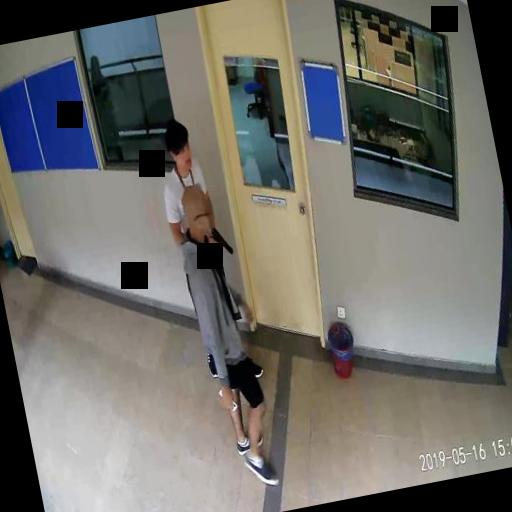Handgun: (208, 222, 231, 256)
